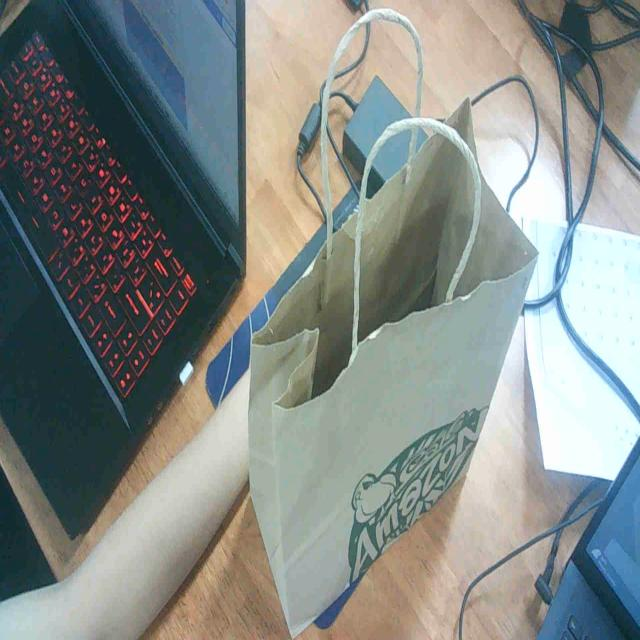bag: (228, 82, 556, 640)
